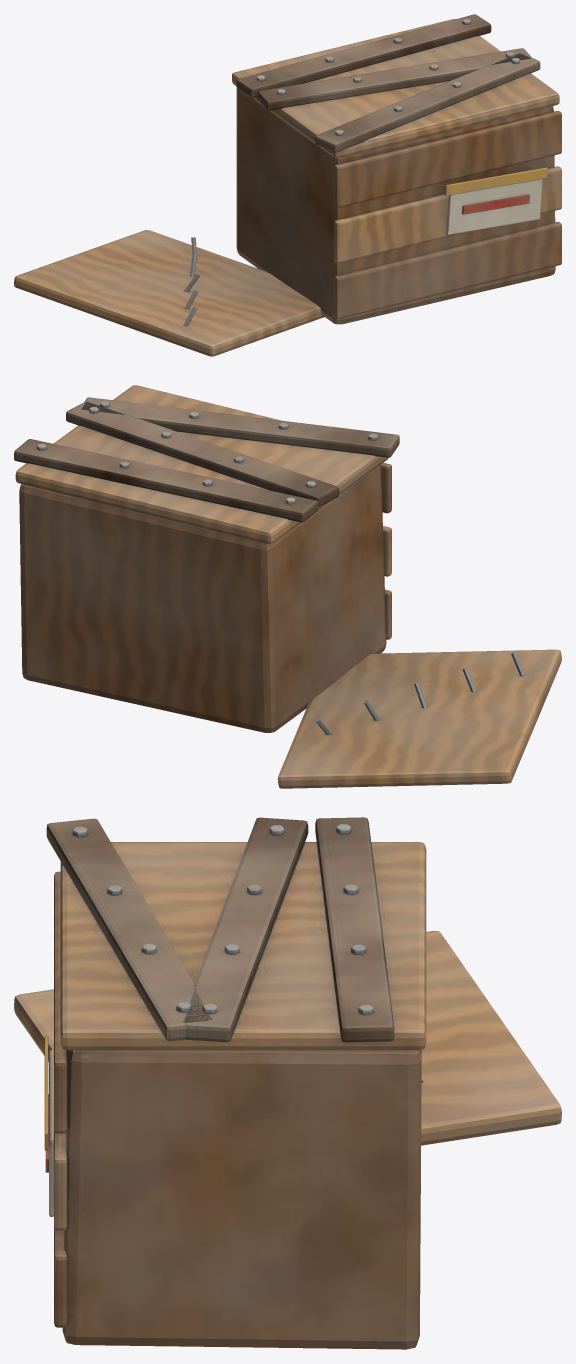
Rendered from source_storage_crate.glb.
3 views of the same model, one above another, from view 1: azimuth 30°, elevation 25°; view 2: azimuth 150°, elevation 25°; view 3: azimuth 270°, elevation 25° (orthographic). The views are drawn at different scales.
Visible parts, largest first — view 1: StorageCrate_Mesh, Closed_Mesh, Open_Mesh; view 2: StorageCrate_Mesh, Closed_Mesh, Open_Mesh; view 3: StorageCrate_Mesh, Closed_Mesh, Open_Mesh.
Part boxes in pixels (bbox=[...]): StorageCrate_Mesh: bbox=[236, 88, 561, 324]; Closed_Mesh: bbox=[232, 14, 559, 158]; Open_Mesh: bbox=[14, 230, 324, 356]; StorageCrate_Mesh: bbox=[19, 462, 391, 732]; Closed_Mesh: bbox=[14, 385, 399, 544]; Open_Mesh: bbox=[277, 649, 561, 788]; StorageCrate_Mesh: bbox=[44, 871, 421, 1349]; Closed_Mesh: bbox=[46, 817, 426, 1050]; Open_Mesh: bbox=[14, 930, 561, 1145].
Size of the model in its own units: 2.04 by 0.8487 by 1.23.
3 materials, 3 textured.
